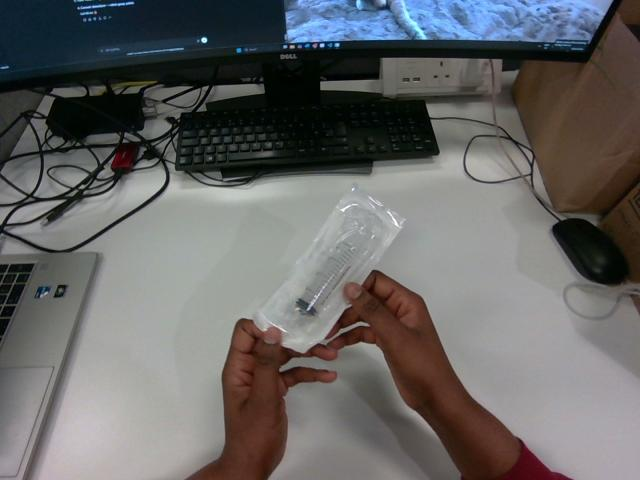syringe: (254, 185, 403, 351)
